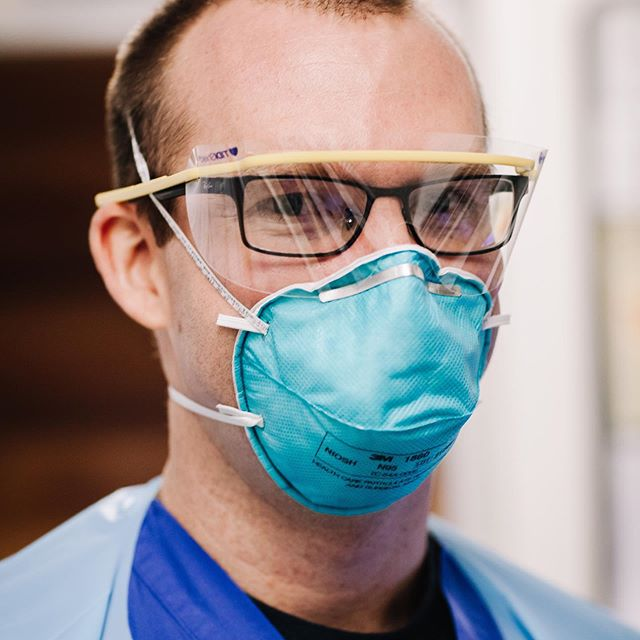n95: (213, 245, 514, 519)
